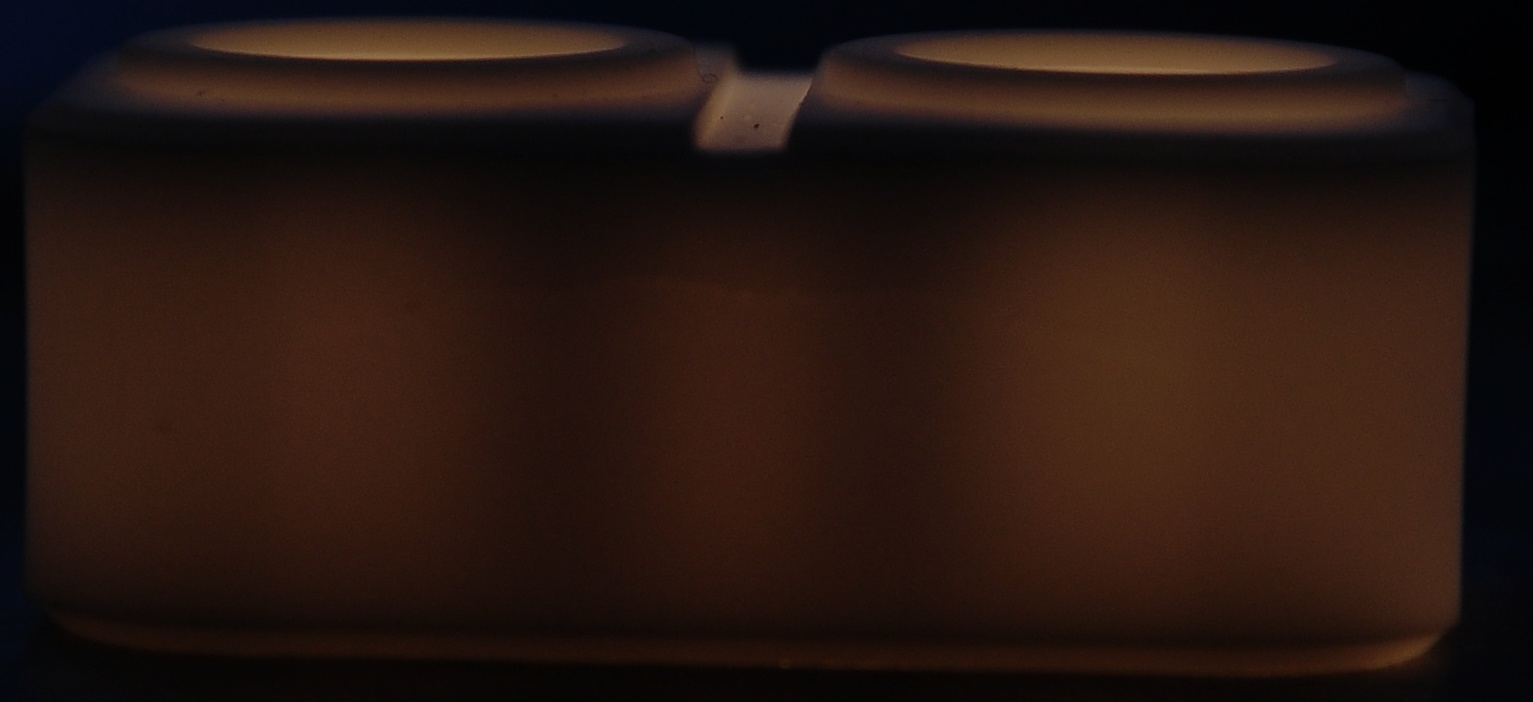flaw: (279, 258, 1212, 374)
